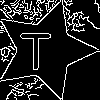T: (20, 25, 52, 70)
